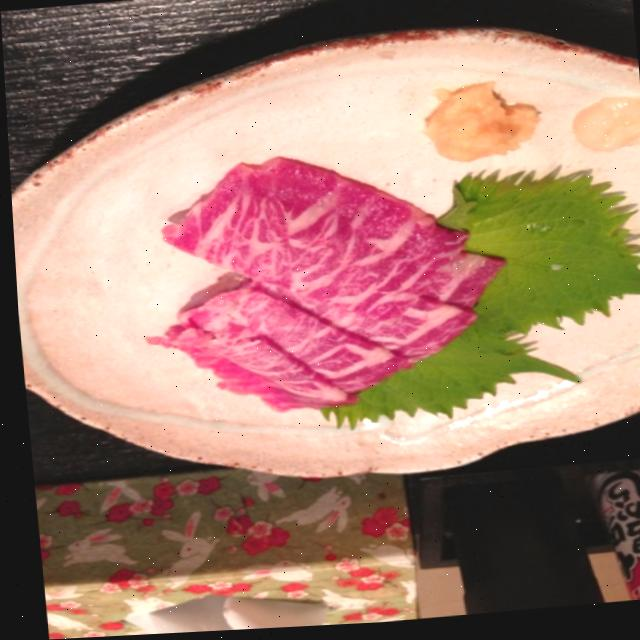刺身生食: (144, 137, 532, 452)
